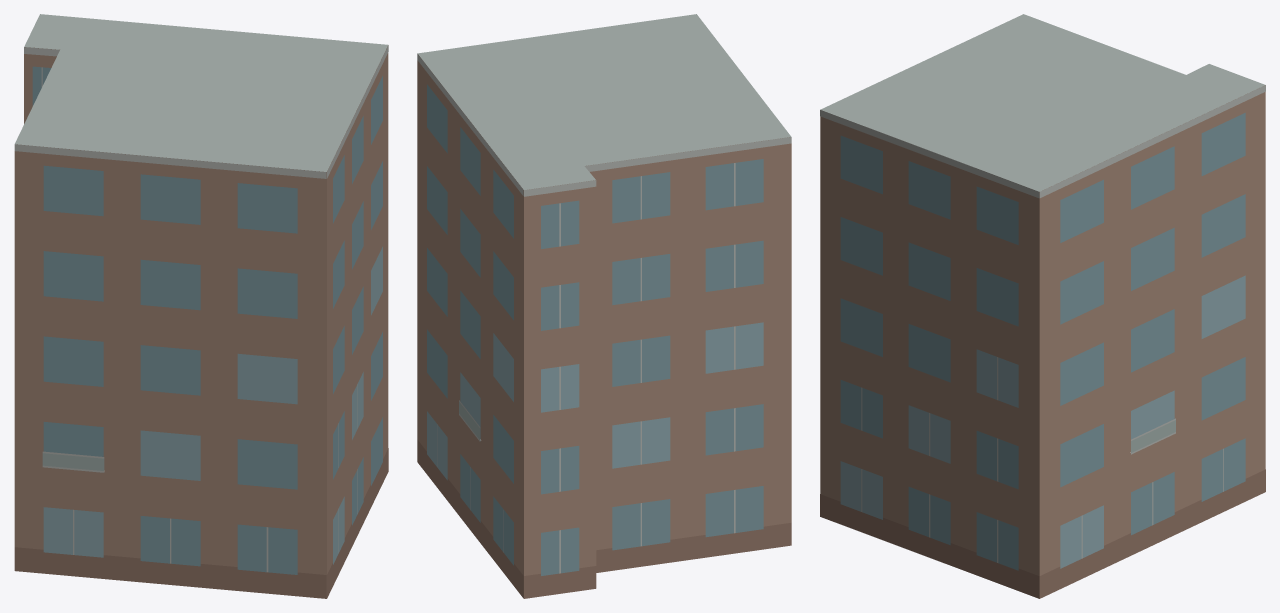
Rendered from survey-upis-32936489.glb.
3 renders of one model, left to right at view 1: azimuth 30°, elevation 25°; view 2: azimuth 150°, elevation 25°; view 3: azimuth 270°, elevation 25°, orthographic. The views are drawn at different scales.
Parts seen in each view (by area): view 1: survey-upis-32936489.tmp; view 2: survey-upis-32936489.tmp; view 3: survey-upis-32936489.tmp.
Boxes of the visible parts, <box> form: survey-upis-32936489.tmp: <box>14,14,388,598</box>; survey-upis-32936489.tmp: <box>417,14,791,598</box>; survey-upis-32936489.tmp: <box>820,14,1265,598</box>.
Size of the model in its own units: 14.07 by 15 by 14.89.
